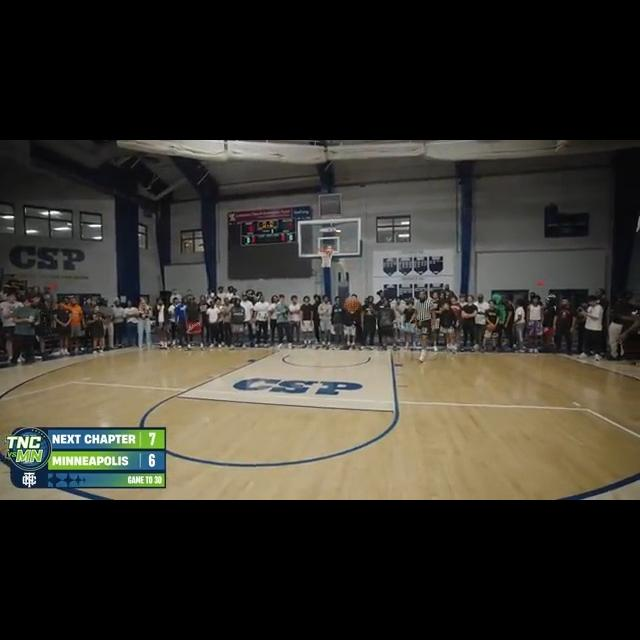basketball: (344, 294, 360, 313)
hoop: (317, 247, 335, 267)
